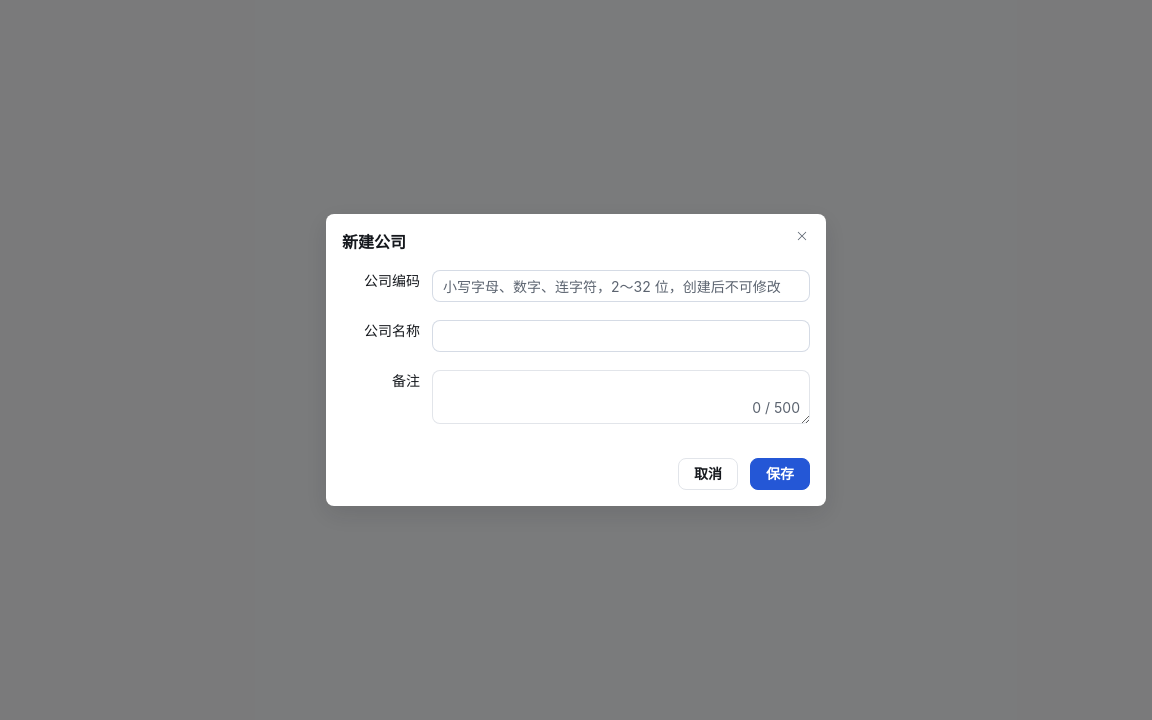
Test: platform tenant management › shows the tenant code conflict returned by the API
This screenshot has width=1152, height=720.
Type "north-america" into the field labelled "公司编码" at point(621, 286), box [443, 271, 799, 301]
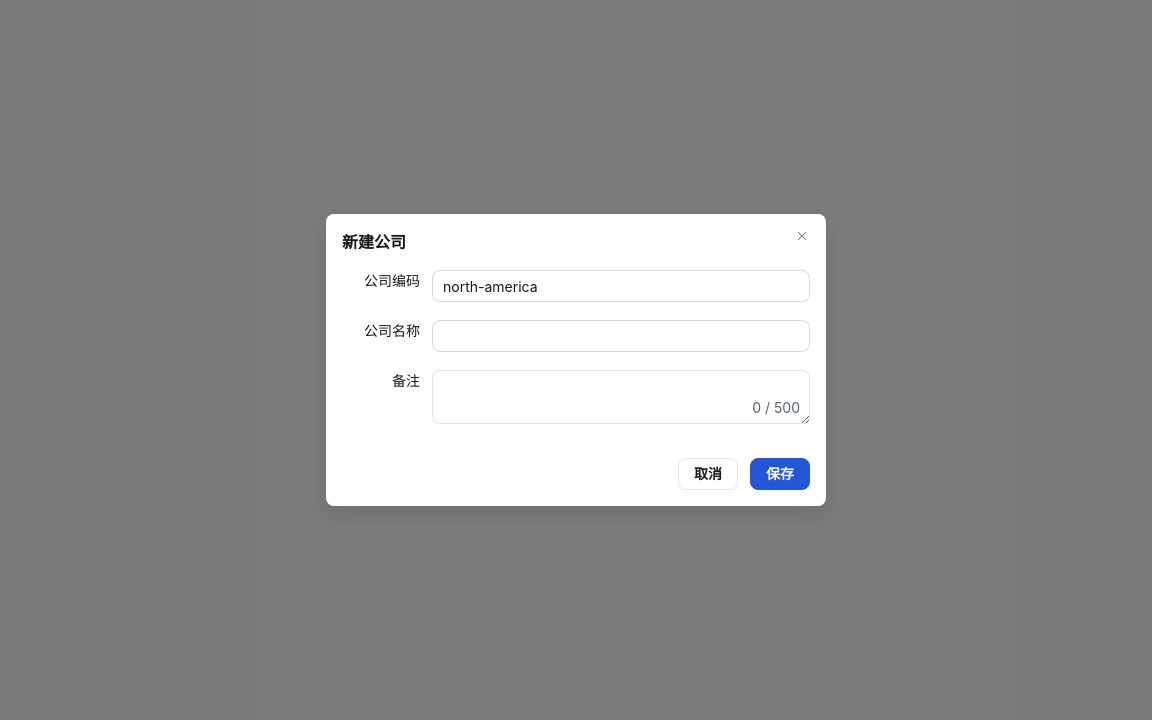
Type "North America" into the field labelled "公司名称" at point(621, 336), box [443, 321, 799, 351]
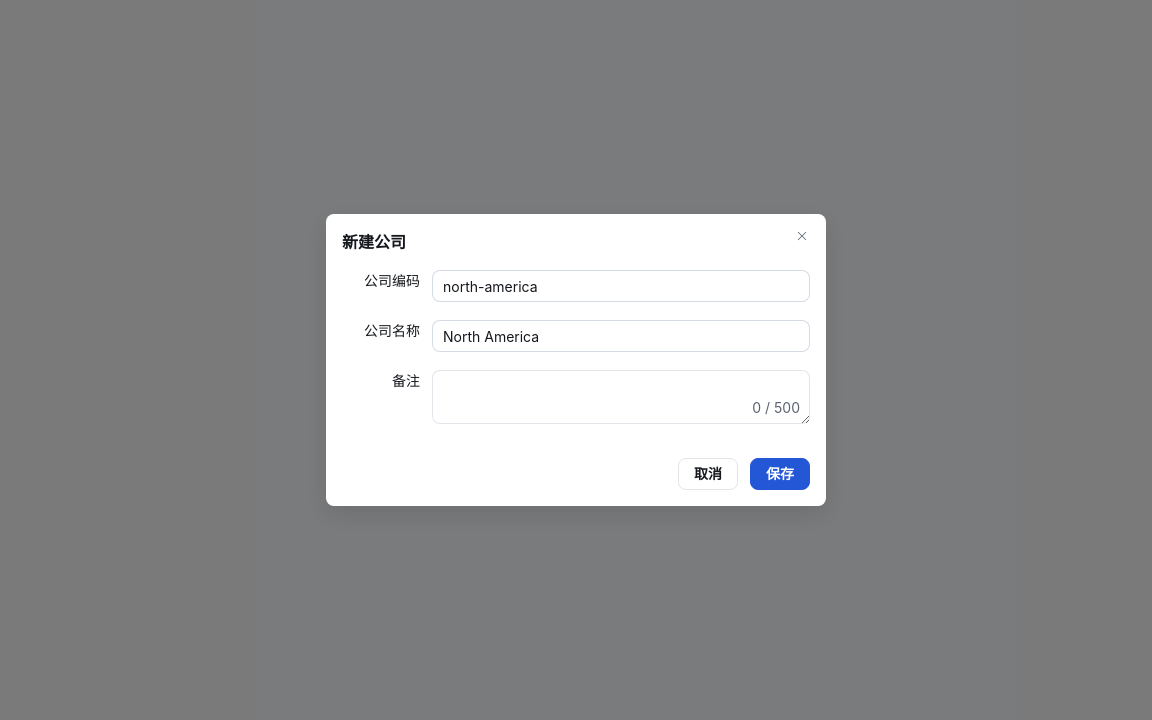
Click the button "保存" at point(780, 474), box [750, 458, 810, 490]
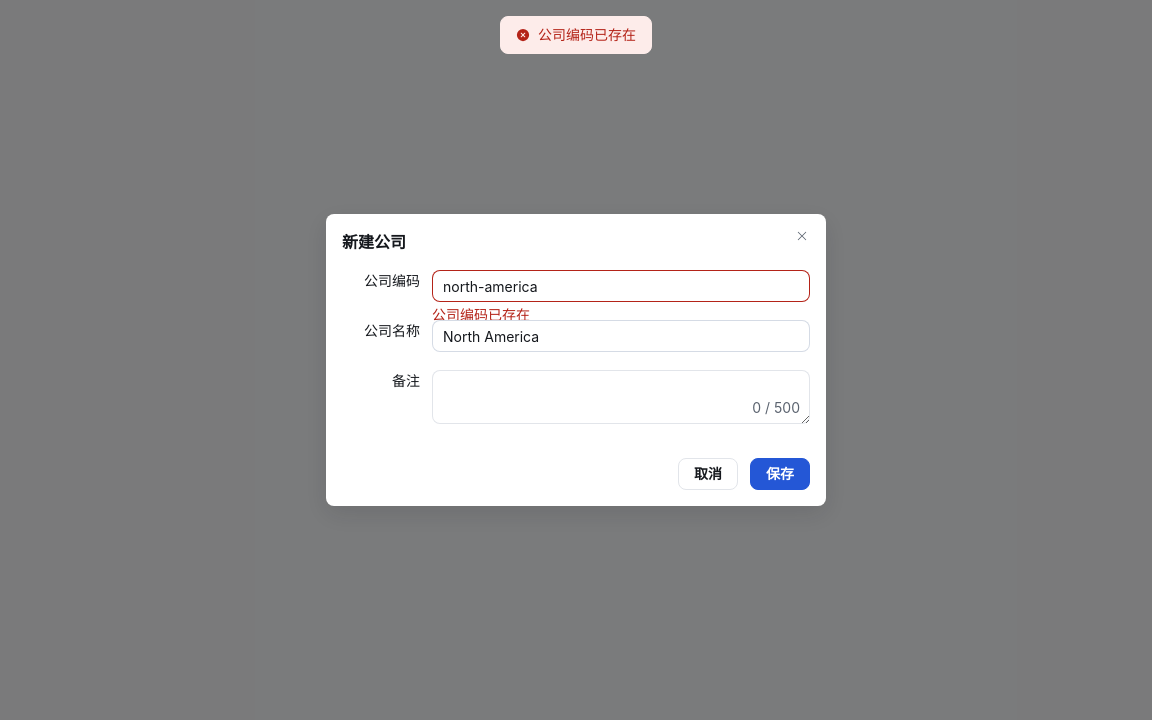
Now the 1st text "公司编码已存在" is shown, box [538, 28, 636, 42]
